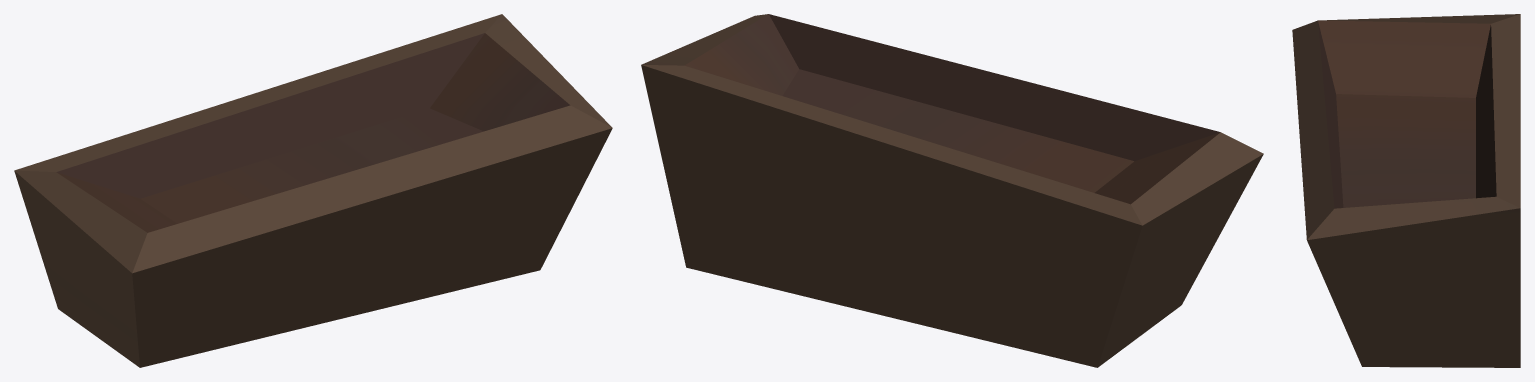
The model's file is SM_L_Mangiatoia.fbx.
The picture shows the model from 3 angles, left to right: view 1: azimuth 30°, elevation 25°; view 2: azimuth 150°, elevation 25°; view 3: azimuth 270°, elevation 25°; orthographic projection. The views are drawn at different scales.
Parts seen in each view (by area): view 1: SM_L_Mangiatoia; view 2: SM_L_Mangiatoia; view 3: SM_L_Mangiatoia.
Part boxes in pixels (bbox=[...]): SM_L_Mangiatoia: bbox=[14, 14, 612, 367]; SM_L_Mangiatoia: bbox=[641, 14, 1263, 367]; SM_L_Mangiatoia: bbox=[1292, 14, 1520, 367].
Size of the model in its own units: 71.56 by 26.15 by 29.97.
